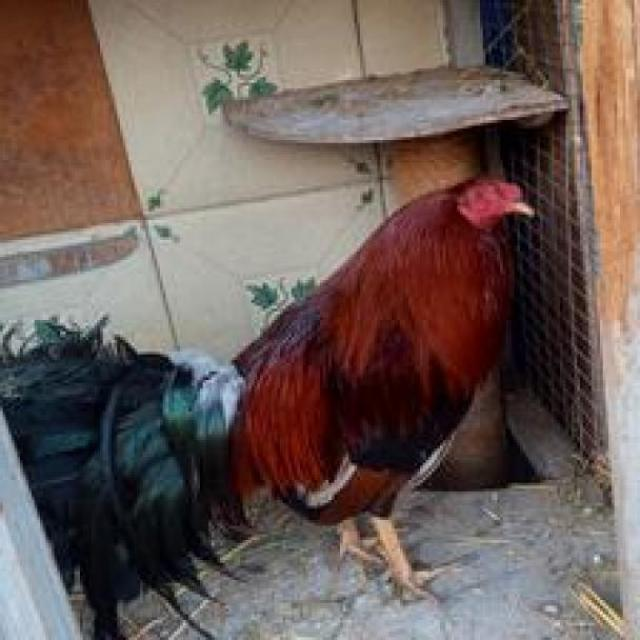Chicken: (2, 159, 553, 616)
